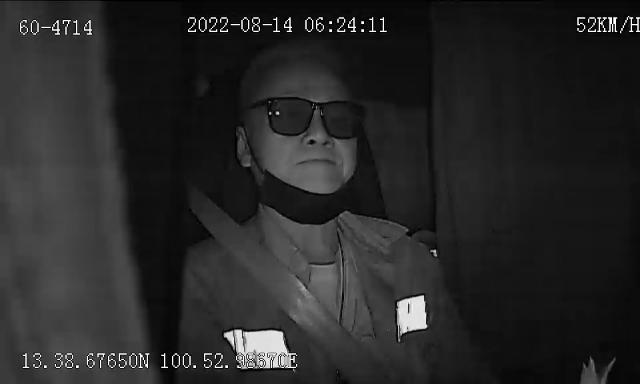Seatbelt: (198, 200, 376, 384)
